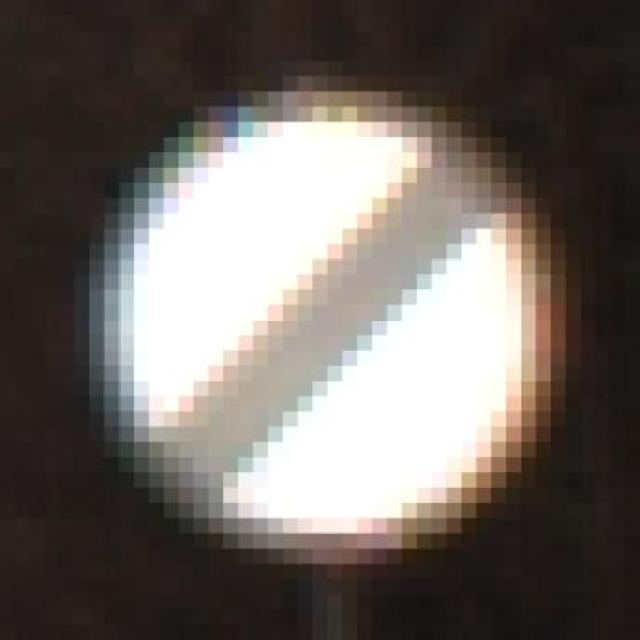End of all speed and passing limits: (89, 46, 566, 580)
